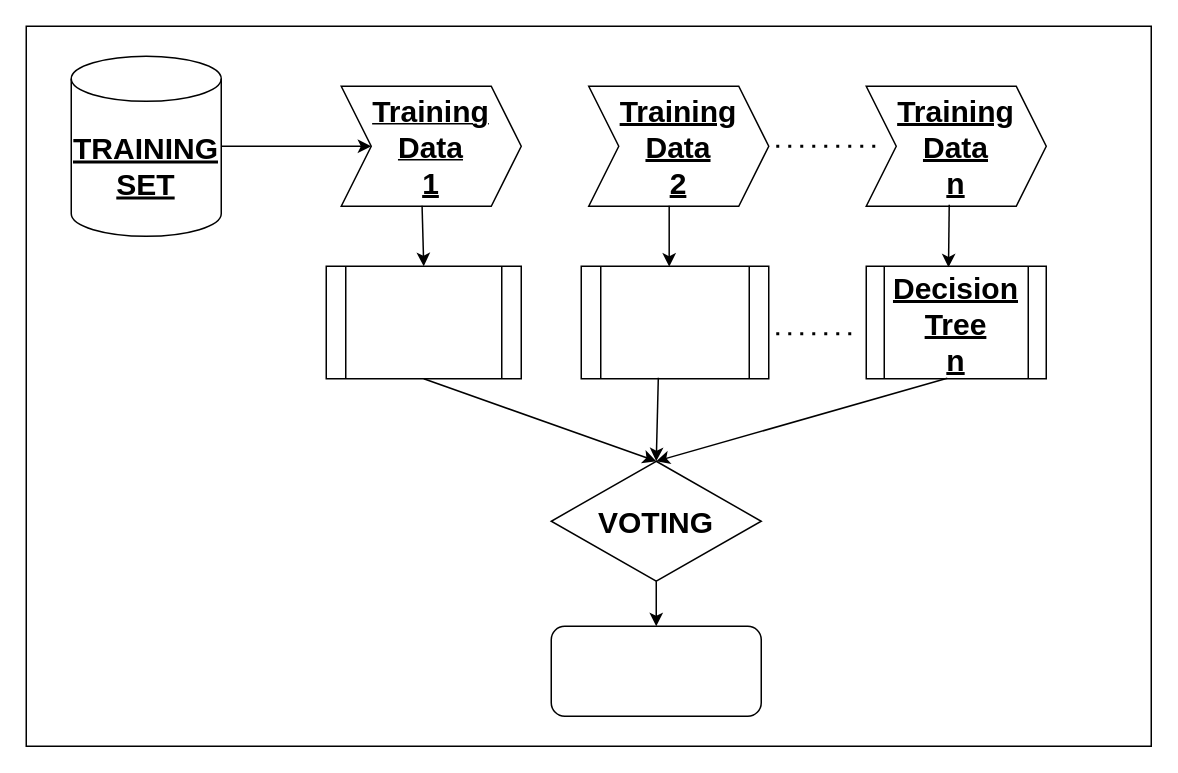
Some shapes in this 1178 by 773 pixel diagram are drawn without their labels. Each missing label, with the centre of its shape:
"Decision Tree 1" goes at (423,322).
"Decision Tree 2" goes at (674,322).
"PREDICTION" goes at (655,670).
